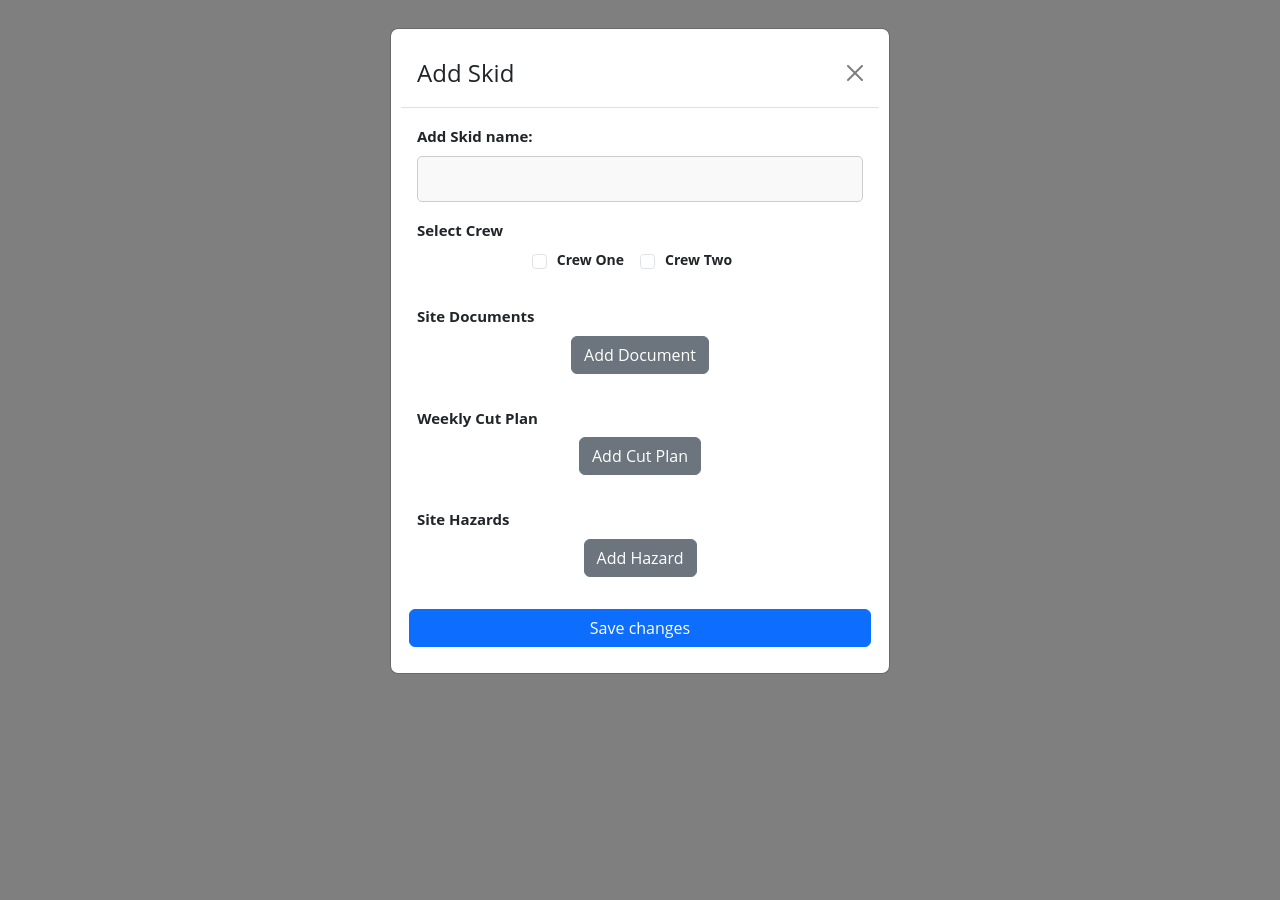
it: AddOrEditSkidModal › shows validation errors when submitting empty form
This screenshot has width=1280, height=900.
What coordinates should you click on to do the following:
click the button "Save changes"
I would click on:
 (640, 628)
Its box is left=409, top=608, right=871, bottom=646.
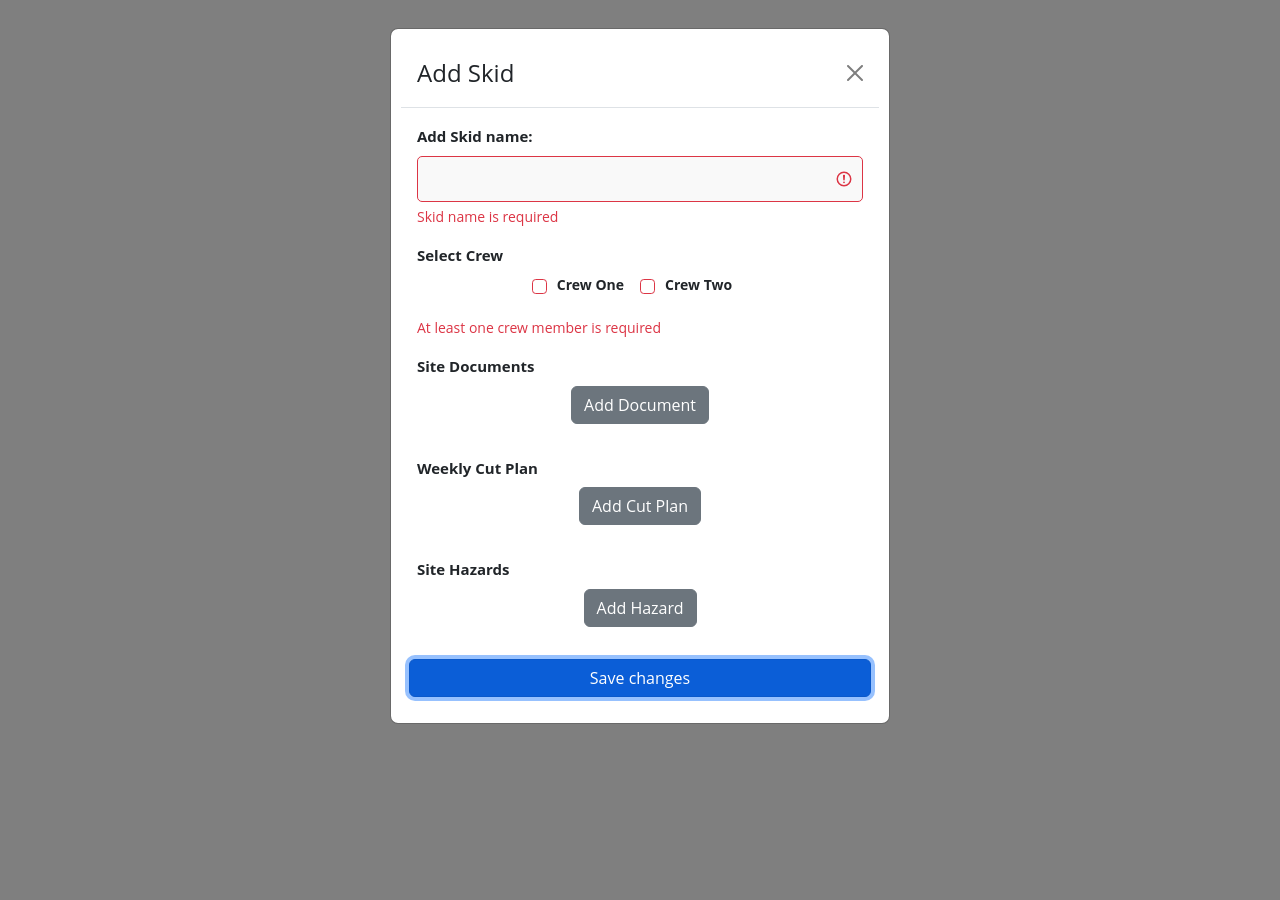
Now the text "Skid name is required" is shown, box left=417, top=206, right=558, bottom=226
Now the text "At least one crew member is required" is shown, box left=417, top=318, right=661, bottom=337
